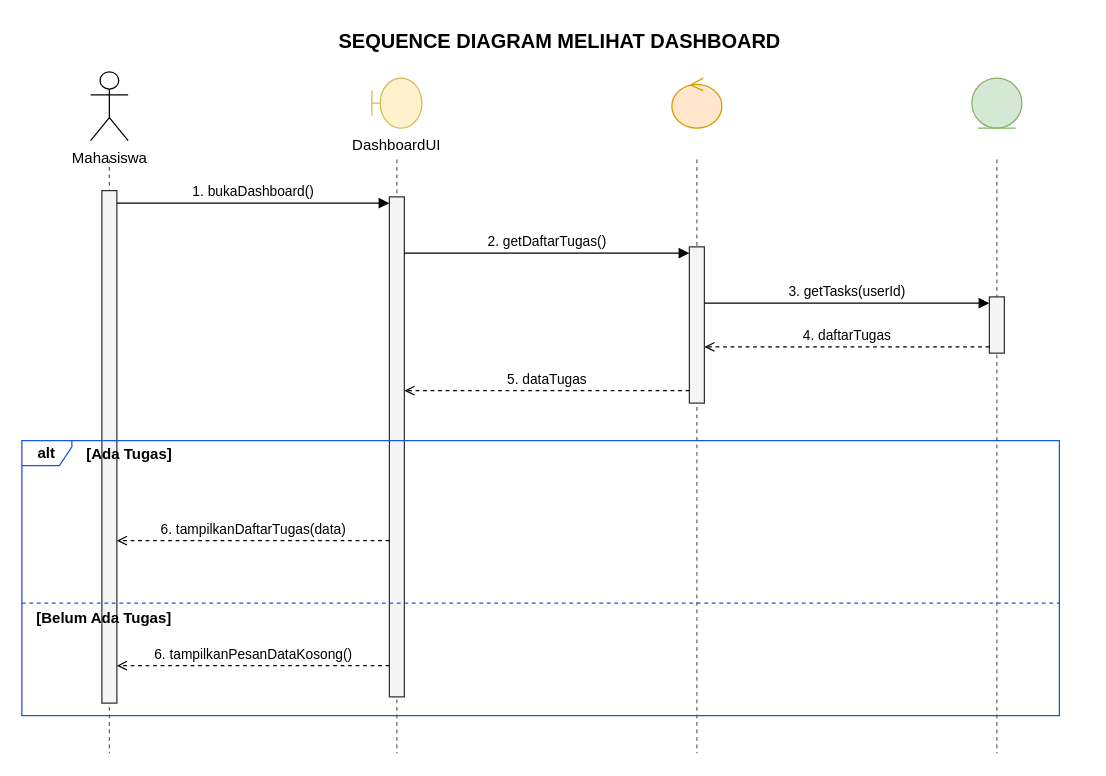
Some shapes in this 1106 by 776 pixel diagram are drawn without their labels. Here are the shapes that lost their labels. From the top down, the centre of each, then its label:
At point (696, 102): "TaskController".
At point (996, 102): "Task".
